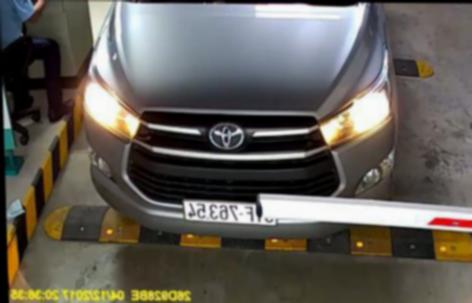License_Plate: (181, 199, 279, 226)
